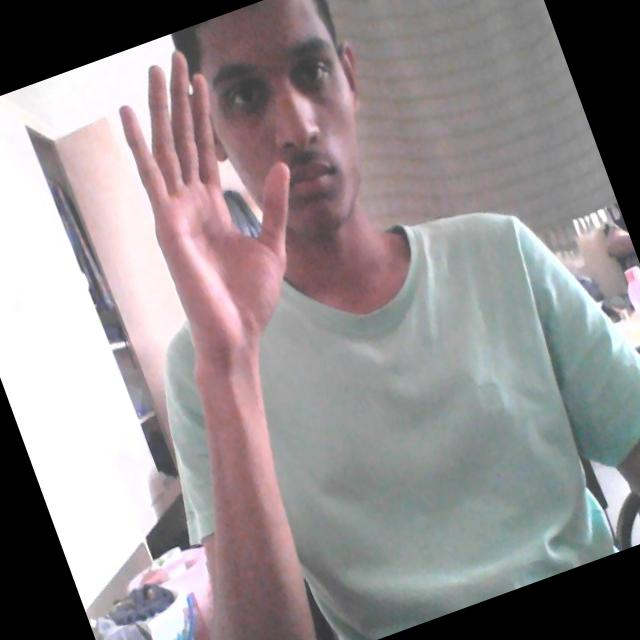Hello: (71, 31, 362, 394)
